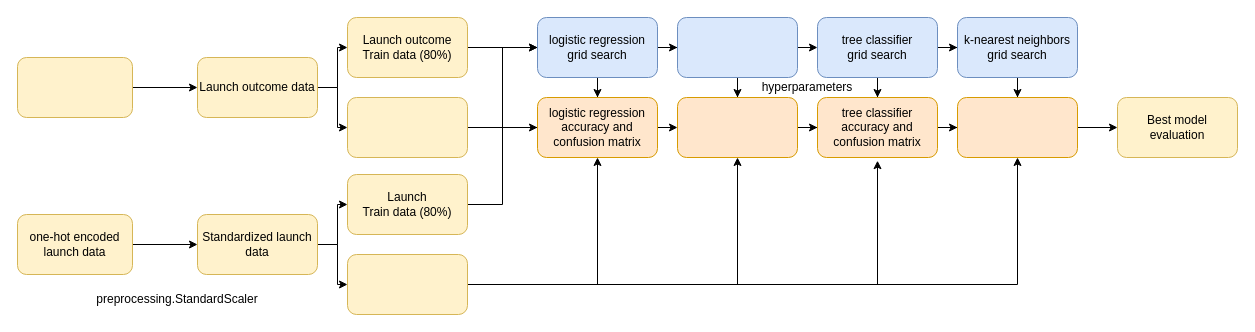
This 1255x332 diagram has some shape labels left out. The shapes that lost their labels are listed below. From the top down, each one's box as (x1, y1, x2, y2) in pixels, then its label:
(676, 16, 798, 78): support vector machine grid search
(16, 56, 132, 118): Cleaned launch data
(346, 96, 468, 158): Launch outcome Test data (20%)
(676, 96, 798, 158): SVM accuracy and confusion matrix
(956, 96, 1078, 158): KNN accuracy and confusion matrix
(346, 254, 468, 314): Launch Test data (20%)
